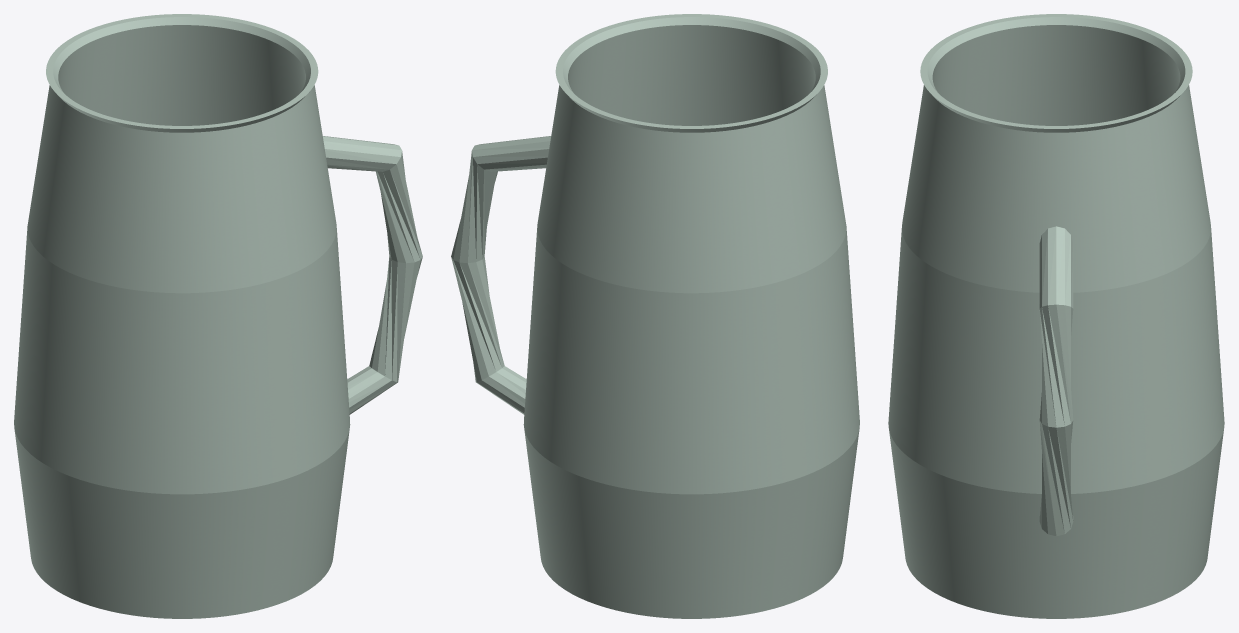
File: misc_com_redware_pitcher.dae
3 renders of one model, left to right at view 1: azimuth 30°, elevation 25°; view 2: azimuth 150°, elevation 25°; view 3: azimuth 270°, elevation 25°, orthographic.
Visible parts, largest first — view 1: porcelain; view 2: porcelain; view 3: porcelain.
Part boxes in pixels (x1,y1,x2,y2): porcelain: [14, 14, 422, 618]; porcelain: [451, 14, 859, 618]; porcelain: [888, 14, 1224, 618].
Bounding box in the file's own units: 27.64 × 20.95 × 33.59.
